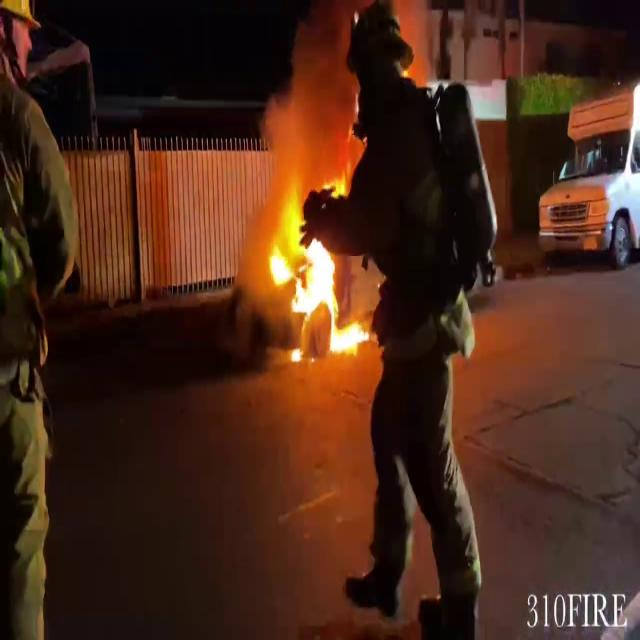Fire: (268, 188, 368, 362)
Smoke: (259, 1, 367, 179)
